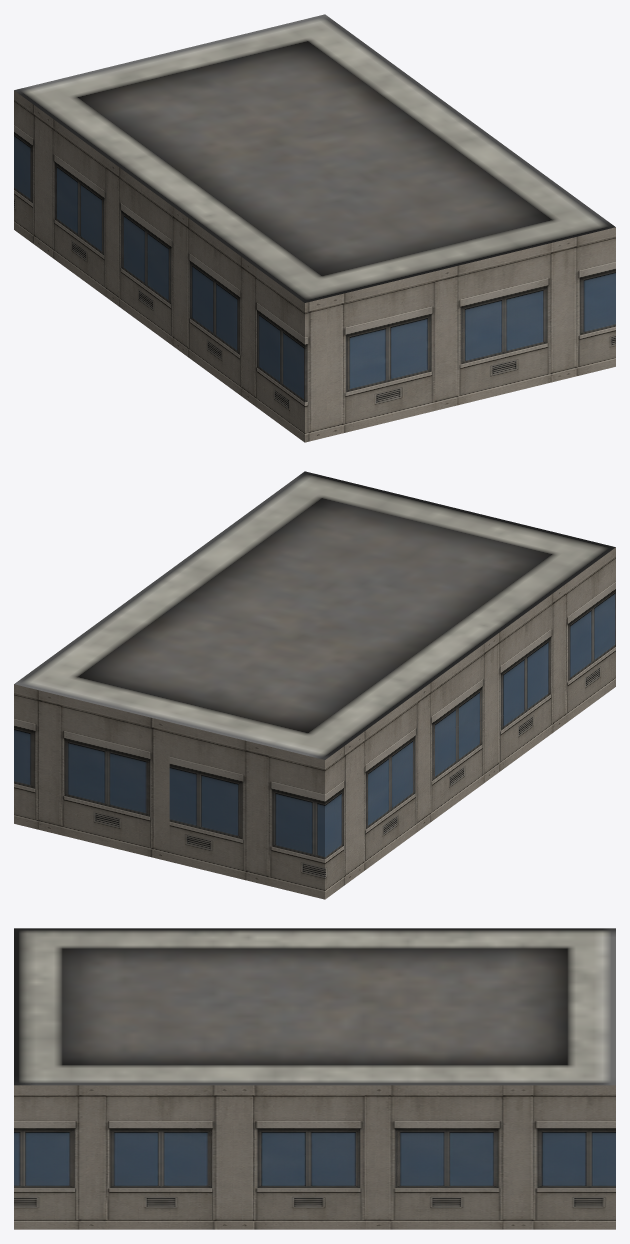
The model's file is building_light_00.glb.
The picture shows the model from 3 angles, top to bottom: view 1: azimuth 30°, elevation 25°; view 2: azimuth 150°, elevation 25°; view 3: azimuth 270°, elevation 25°; orthographic projection. The views are drawn at different scales.
Visible parts, largest first — view 1: buildings/saxarba/building_light/building_light_00; view 2: buildings/saxarba/building_light/building_light_00; view 3: buildings/saxarba/building_light/building_light_00.
Part boxes in pixels (x1=…): buildings/saxarba/building_light/building_light_00: x1=14, y1=14, x2=615, y2=442; buildings/saxarba/building_light/building_light_00: x1=14, y1=471, x2=615, y2=899; buildings/saxarba/building_light/building_light_00: x1=14, y1=928, x2=615, y2=1229.
Size of the model in its own units: 42 by 18 by 68.
